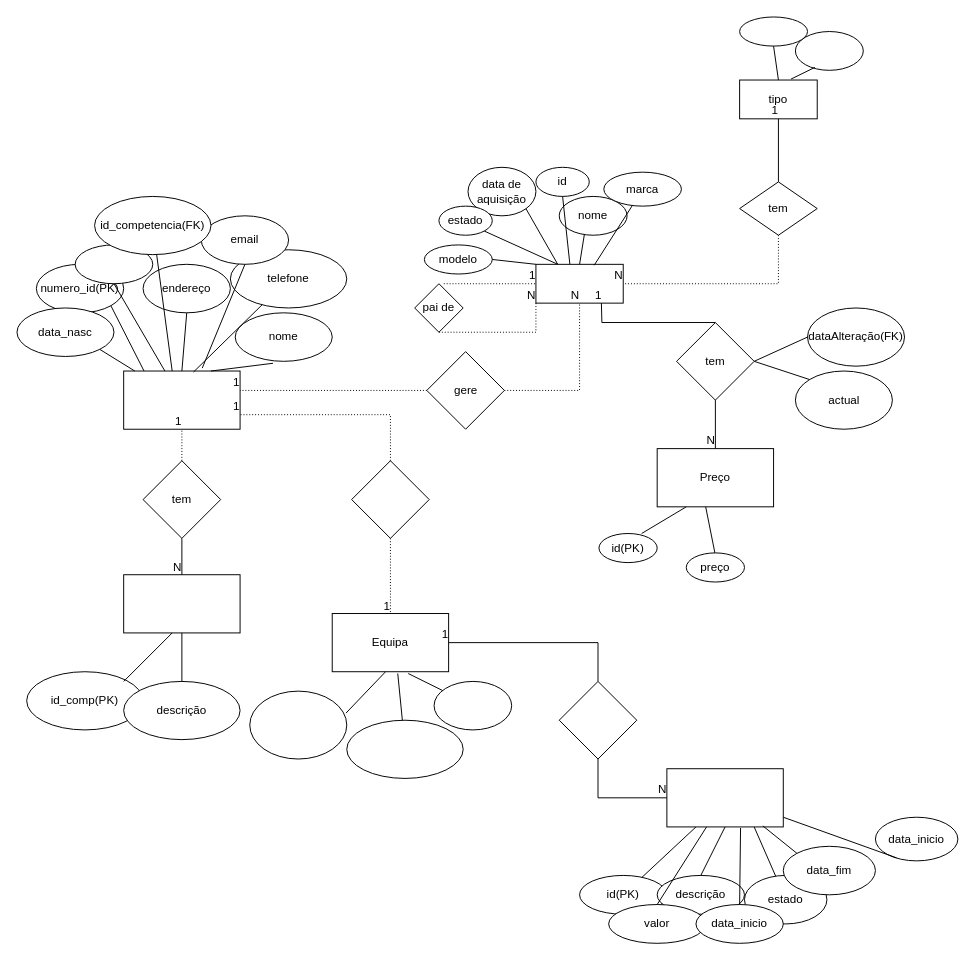
The diagram is 975 pixels wide and 960 high, and some of its shapes have lost their labels. The shapes that lost their labels are listed below. From the top down, each one's centre as x and y in pixels, then its label:
At [773,31]: "id_tipo(PK)".
At [828,50]: "description".
At [113,264]: "profissão".
At [579,283]: "Ativo".
At [181,399]: "funcionário".
At [390,499]: "pertence".
At [181,603]: "competencia".
At [298,724]: "codigo_equipa(PK)".
At [472,705]: "localização".
At [597,719]: "tem atribuida".
At [404,748]: "numero_elementos".
At [724,797]: "intervenção".
